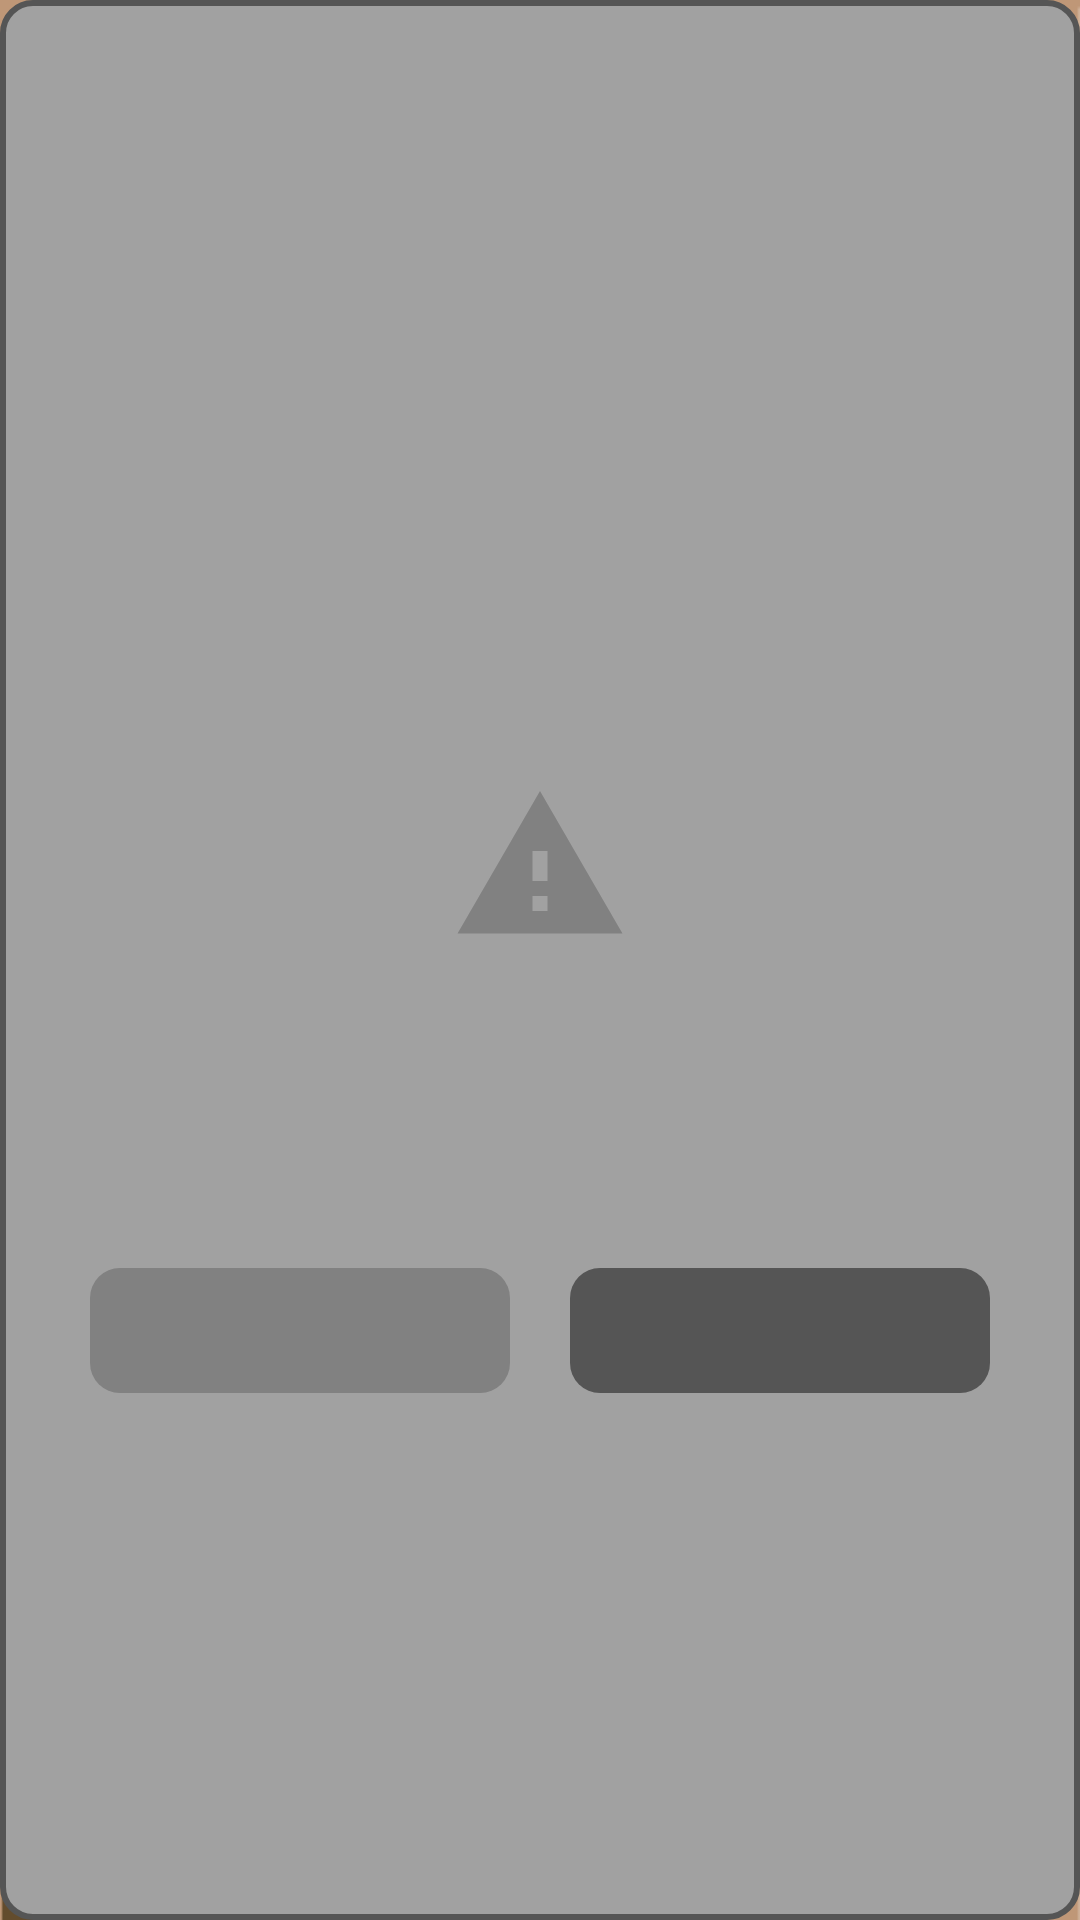

Named icons in this screenshot (1080w x 1920h) and their centers, (x,y):
warning: (540,862)
